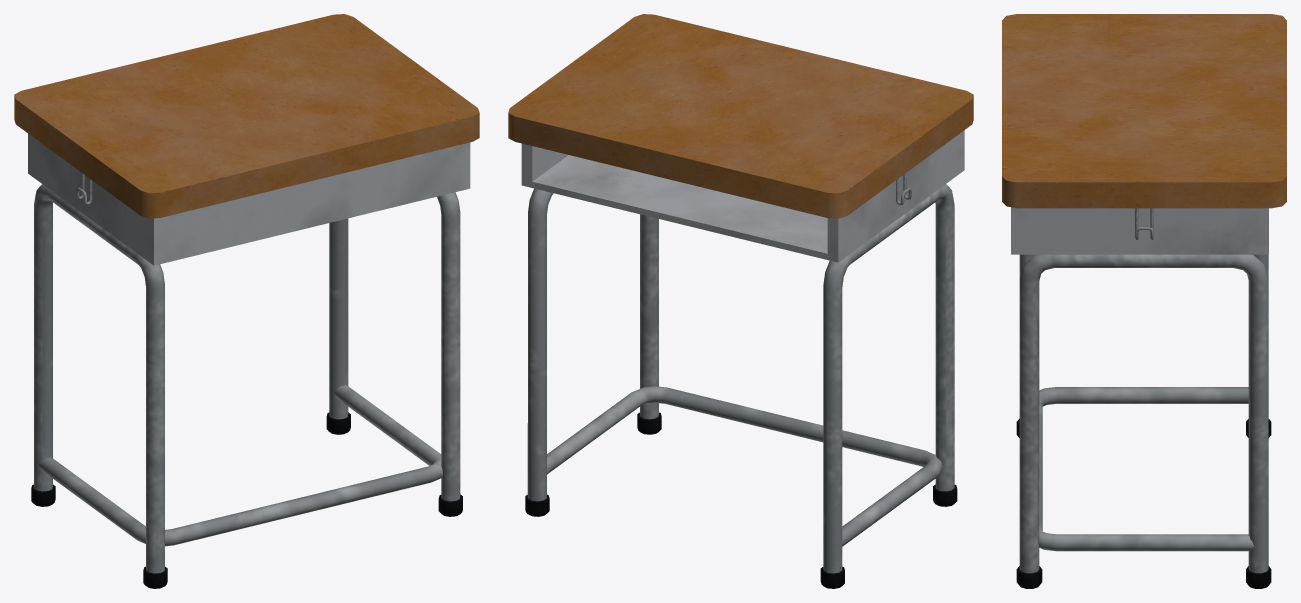
The model's file is StudentTable.fbx.
3 renders of one model, left to right at view 1: azimuth 30°, elevation 25°; view 2: azimuth 150°, elevation 25°; view 3: azimuth 270°, elevation 25°, orthographic. The views are drawn at different scales.
Visible parts, largest first — view 1: StudentTable; view 2: StudentTable; view 3: StudentTable.
Boxes of the visible parts, x1,y1,x2,y2 form: StudentTable: [14, 14, 479, 588]; StudentTable: [508, 14, 973, 588]; StudentTable: [1002, 14, 1286, 588].
Size of the model in its own units: 0.7 by 0.8 by 0.5.
